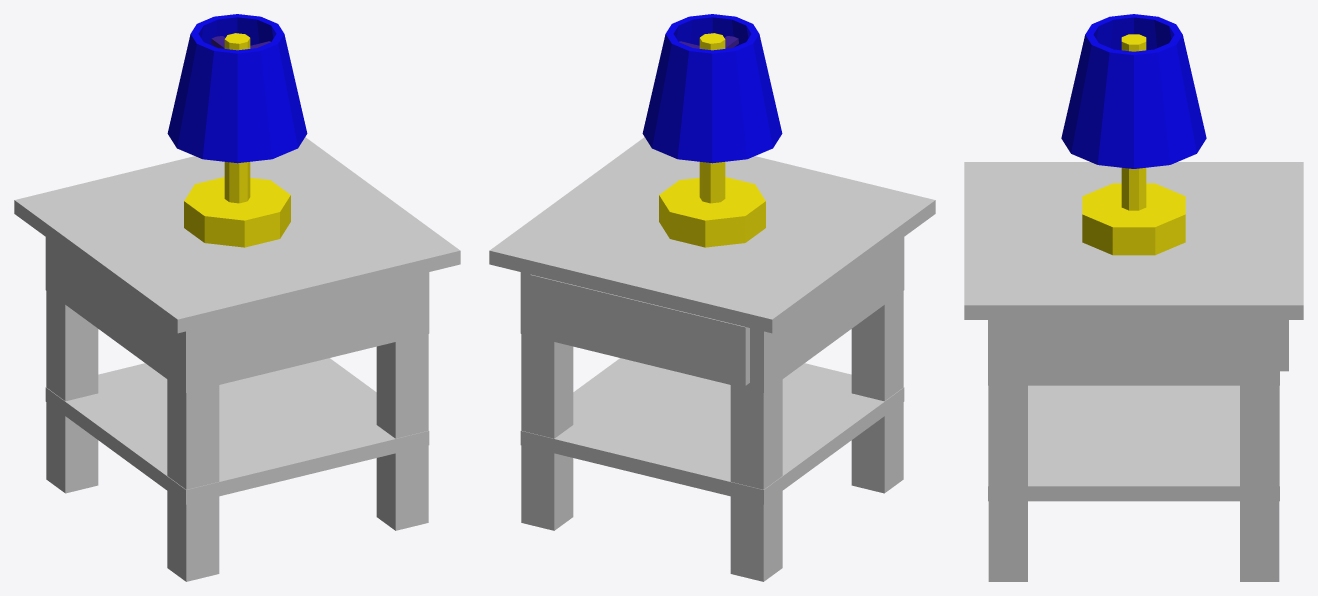
Rendered from table.glb.
3 renders of one model, left to right at view 1: azimuth 30°, elevation 25°; view 2: azimuth 150°, elevation 25°; view 3: azimuth 270°, elevation 25°, orthographic. The views are drawn at different scales.
Visible parts, largest first — view 1: 64, 72, 65; view 2: 64, 72, 65; view 3: 64, 72, 65.
Boxes of the visible parts, x1=… form: 64: x1=14, y1=137, x2=460, y2=581; 72: x1=167, y1=14, x2=307, y2=163; 65: x1=184, y1=33, x2=290, y2=247; 64: x1=489, y1=137, x2=935, y2=581; 72: x1=642, y1=14, x2=782, y2=163; 65: x1=659, y1=33, x2=765, y2=247; 64: x1=964, y1=162, x2=1303, y2=581; 72: x1=1061, y1=14, x2=1206, y2=168; 65: x1=1082, y1=34, x2=1185, y2=255.
Size of the model in its own units: 2.31 by 3.65 by 2.31.
